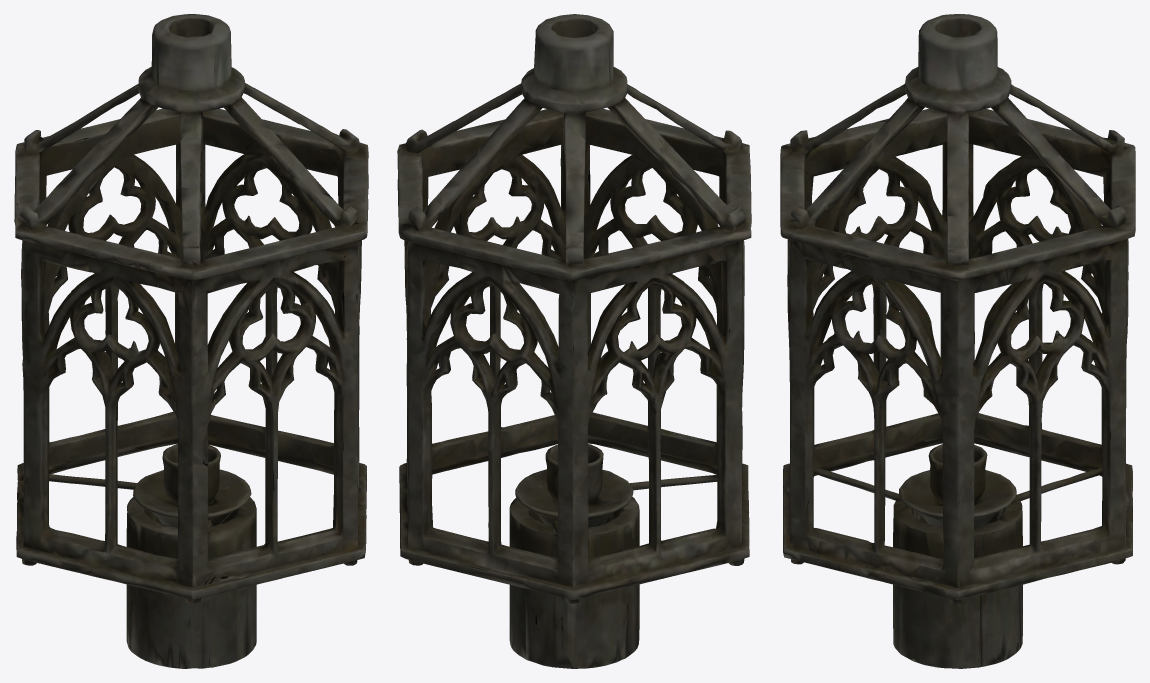
Rendered from a3D-farol.glb.
3 renders of one model, left to right at view 1: azimuth 30°, elevation 25°; view 2: azimuth 150°, elevation 25°; view 3: azimuth 270°, elevation 25°, orthographic.
Parts seen in each view (by area): view 1: geometry_0; view 2: geometry_0; view 3: geometry_0.
Part boxes in pixels (x1,y1,x2,y2): geometry_0: (14,14,368,668); geometry_0: (397,14,751,668); geometry_0: (780,14,1135,668).
Size of the model in its own units: 1.14 by 1.9 by 0.9956.
1 material, 1 textured.
